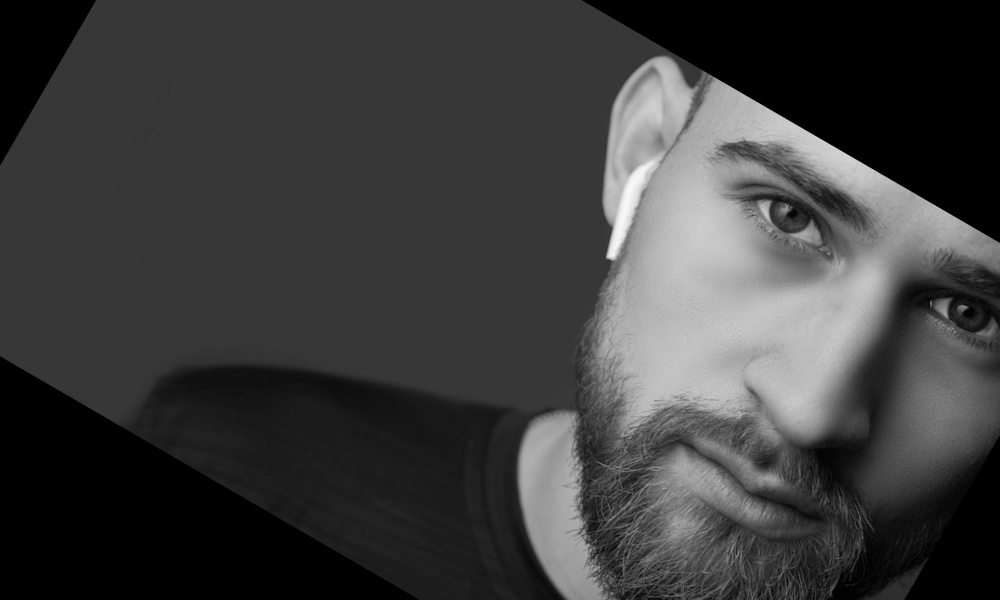earphone: (542, 44, 719, 265)
